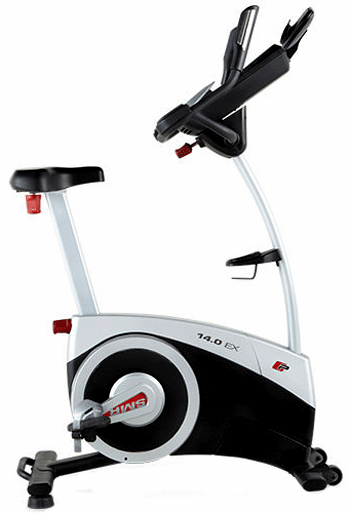gym_bike: (1, 6, 344, 505)
